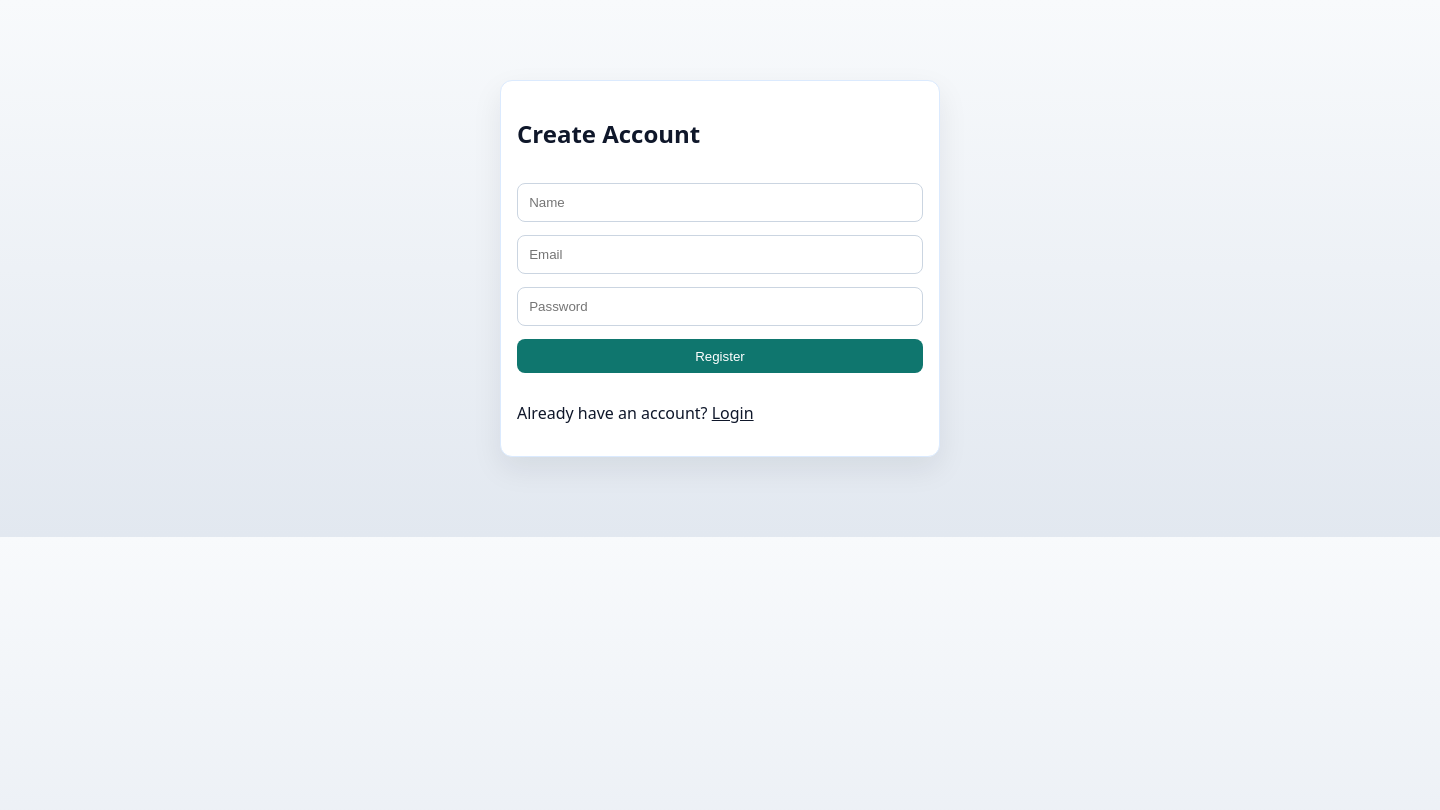
Test case: Register page › duplicate email shows error
Type "Ravi" into the field with placeholder "Name" at (720, 202), box [517,183,923,222]
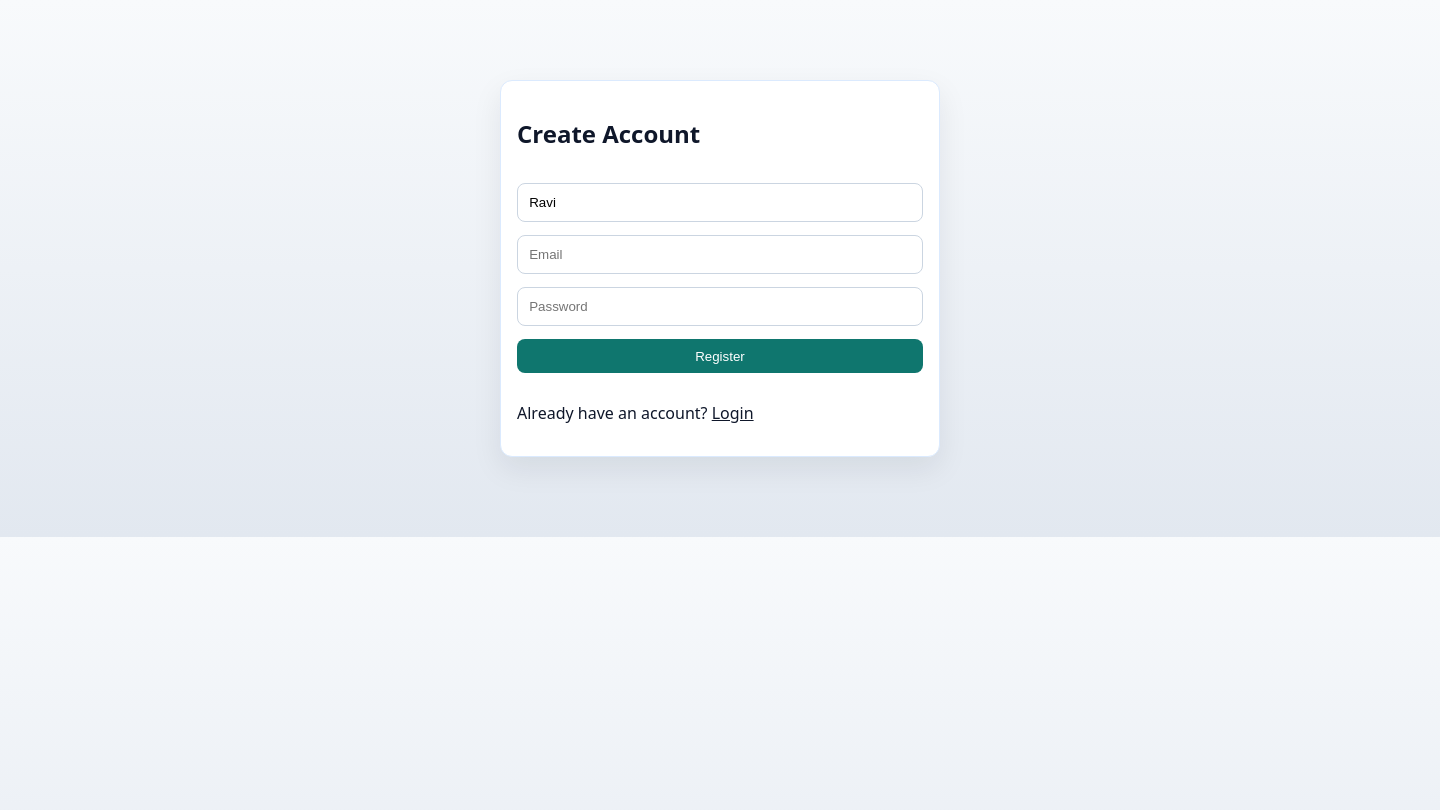
Type "ravi@mail.com" into the field with placeholder "Email" at (720, 254), box [517,235,923,274]
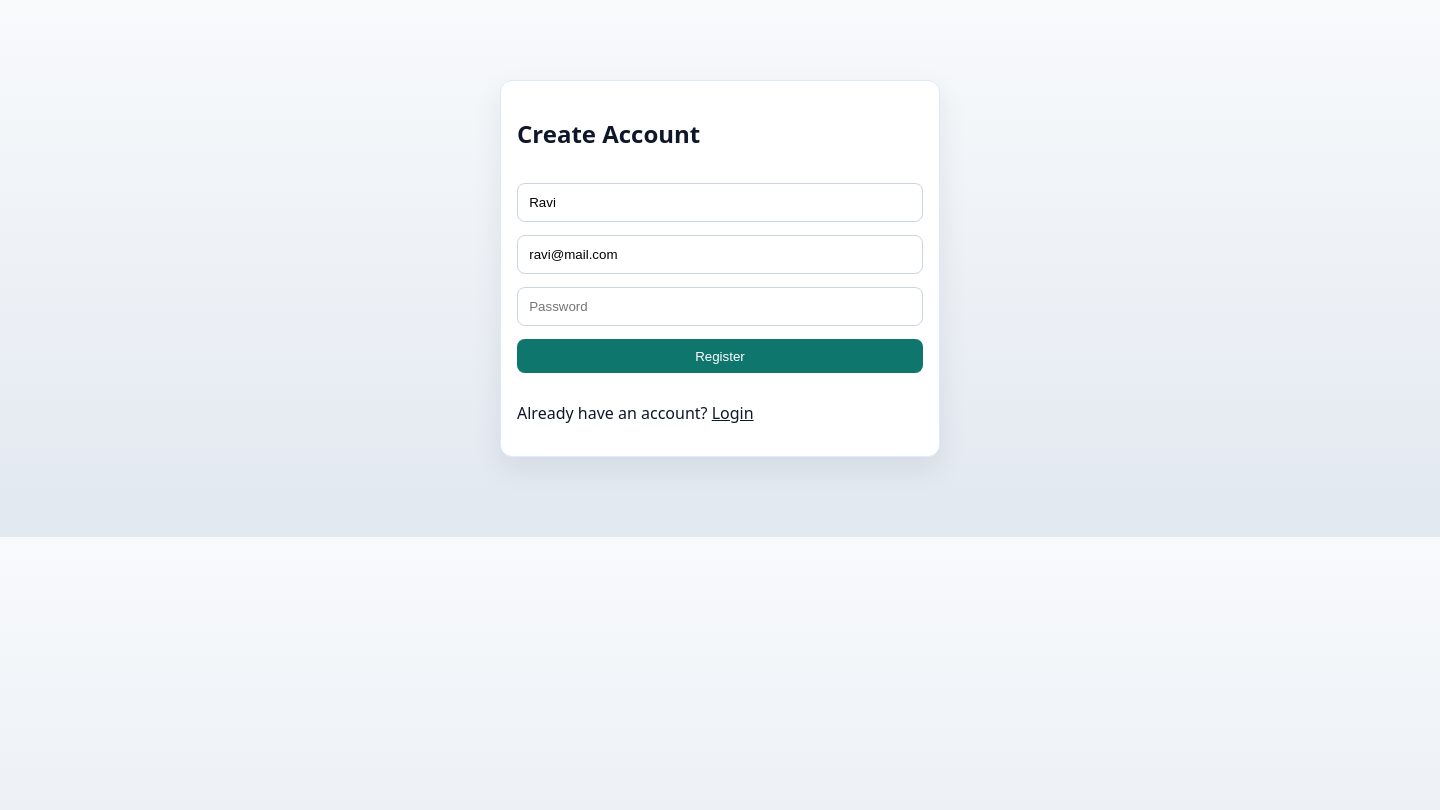
Type "1234" into the password field with placeholder "Password" at (720, 307), box [517,287,923,326]
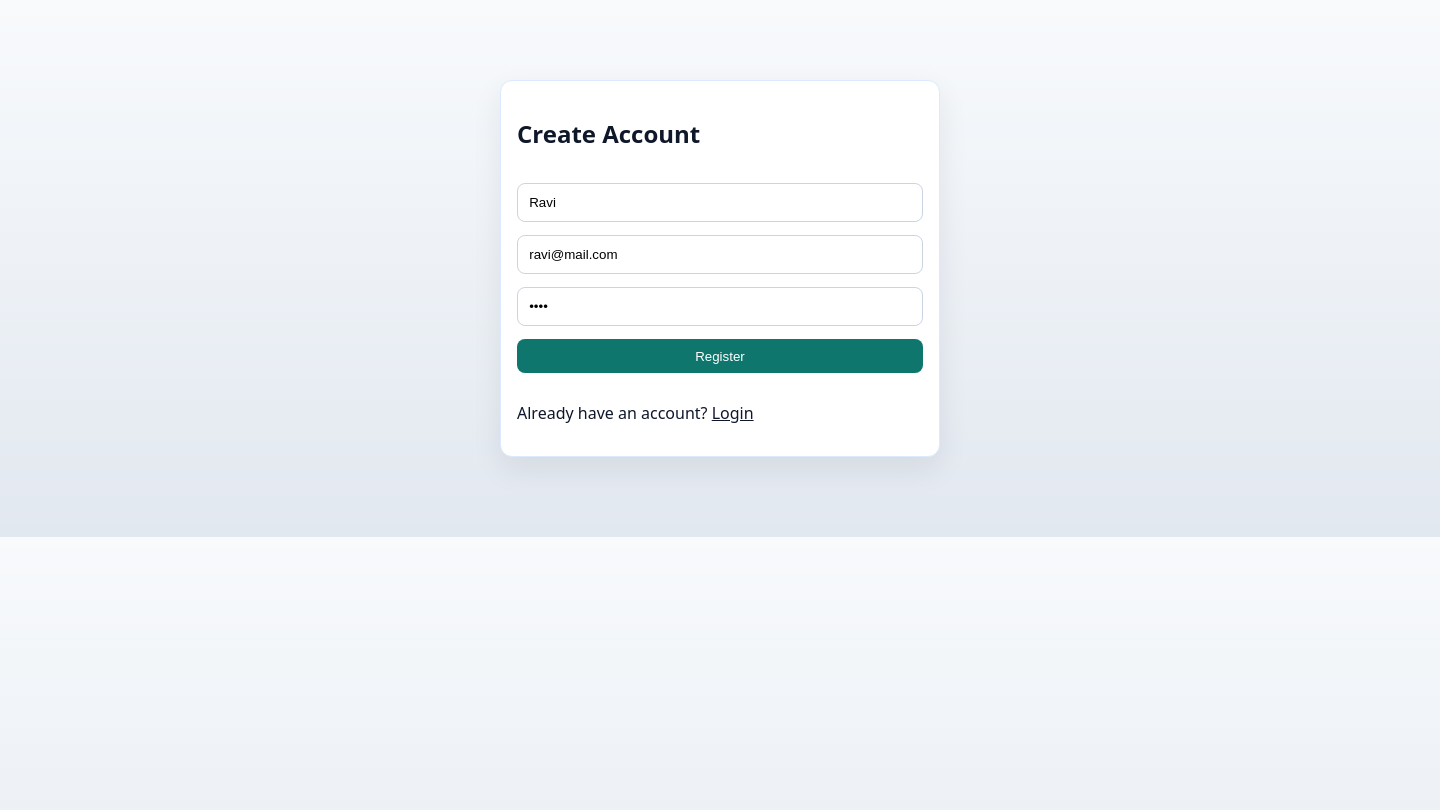
Click the button "Register" at (720, 356), box [517,339,923,373]
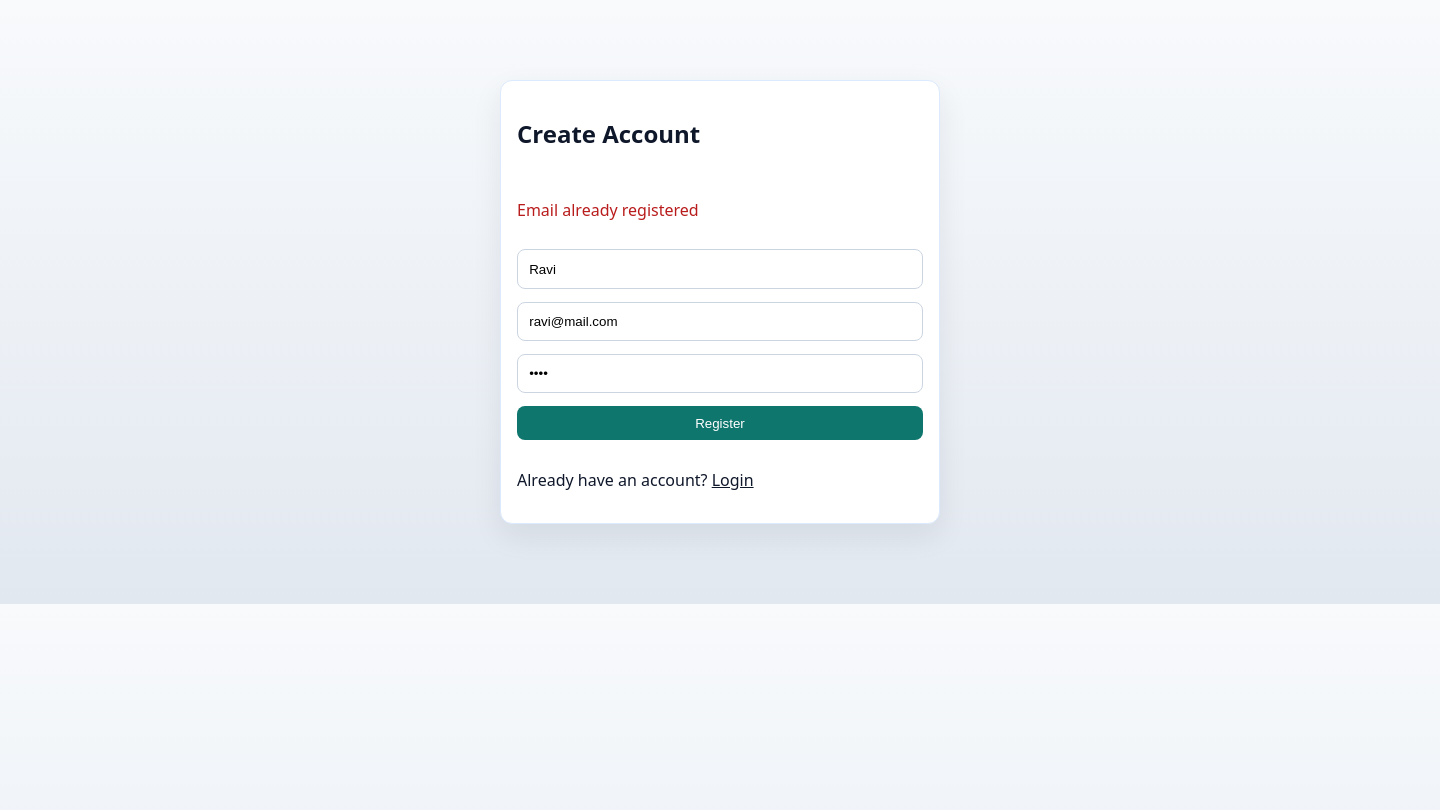
Result: the text "Email already registered" is shown at [517,199,699,221]
